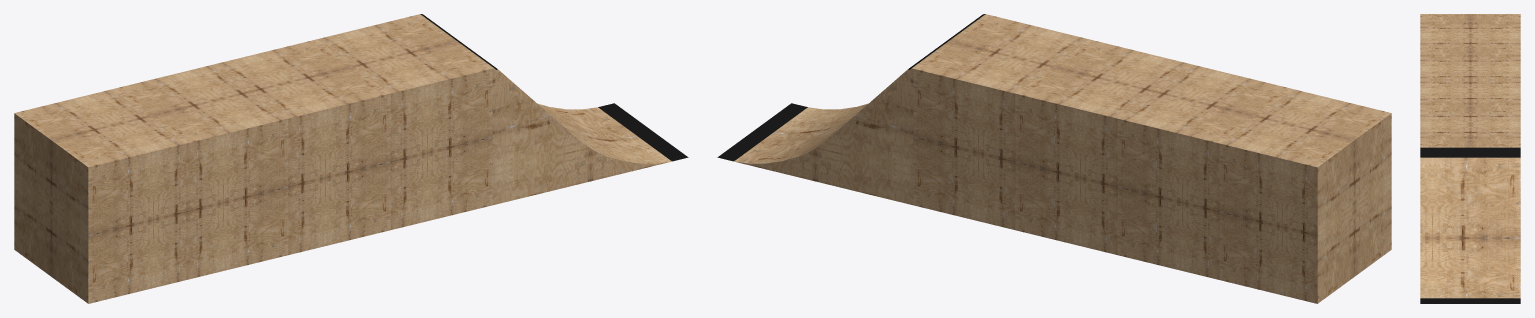
The model's file is rampB.fbx.
3 views of the same model, side by side, from view 1: azimuth 30°, elevation 25°; view 2: azimuth 150°, elevation 25°; view 3: azimuth 270°, elevation 25° (orthographic). The views are drawn at different scales.
Visible parts, largest first — view 1: rampE; view 2: rampE; view 3: rampE.
Boxes of the visible parts, x1,y1,x2,y2 form: rampE: (14, 14, 688, 303); rampE: (717, 14, 1391, 303); rampE: (1420, 14, 1520, 303).
Bounding box in the file's own units: 1308 × 284 × 280.
